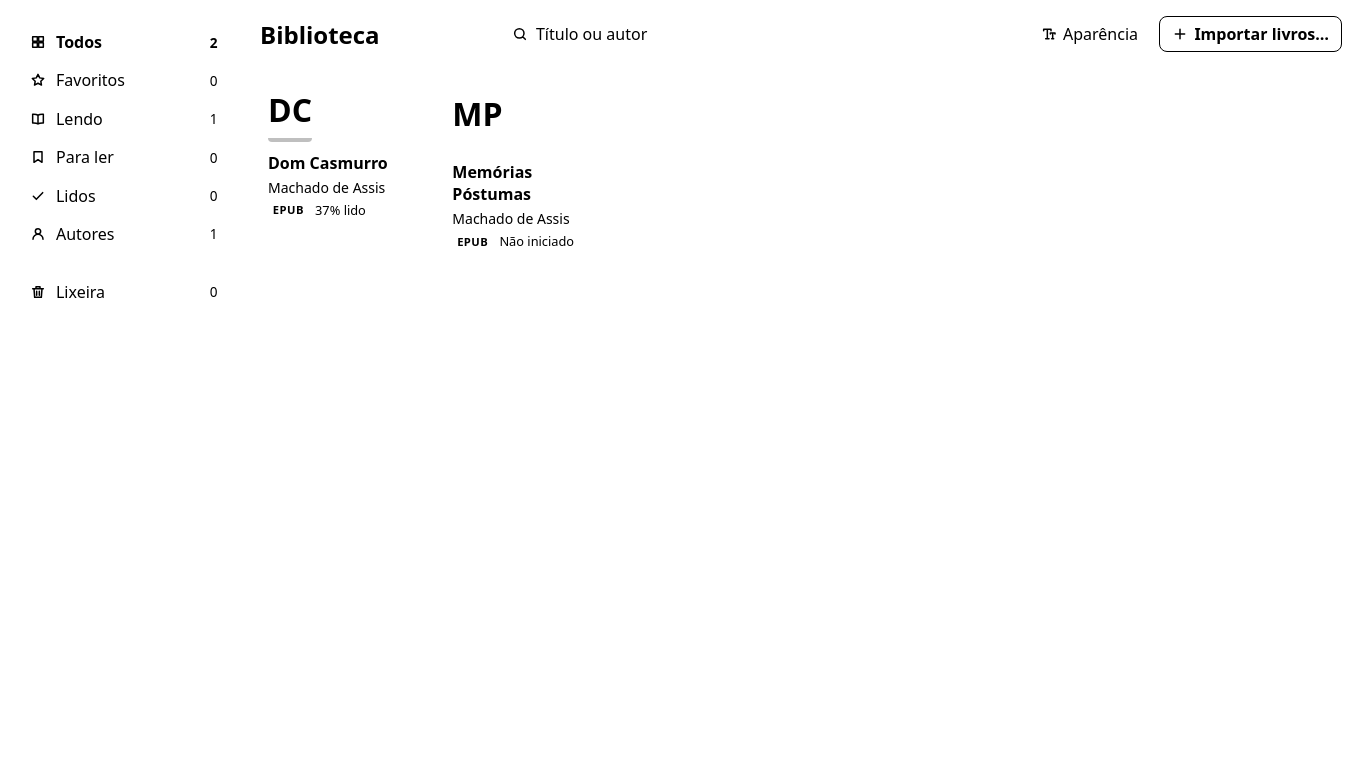
Biblioteca › com preferências, oferece o painel de tema
Click the button "Aparência" at point(1089, 34), box [1028,16,1151,52]
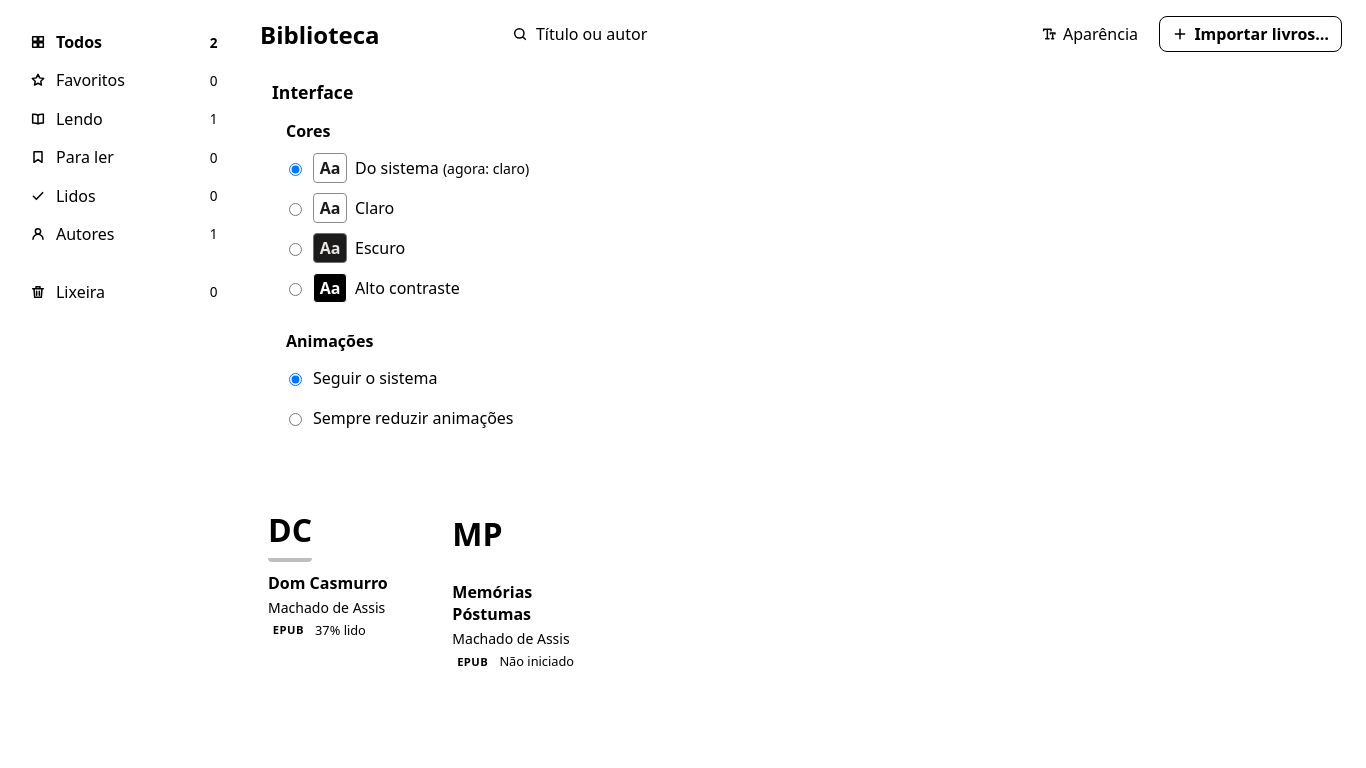
Now the radio button labelled "Alto contraste" is shown, box [289,283,302,296]
